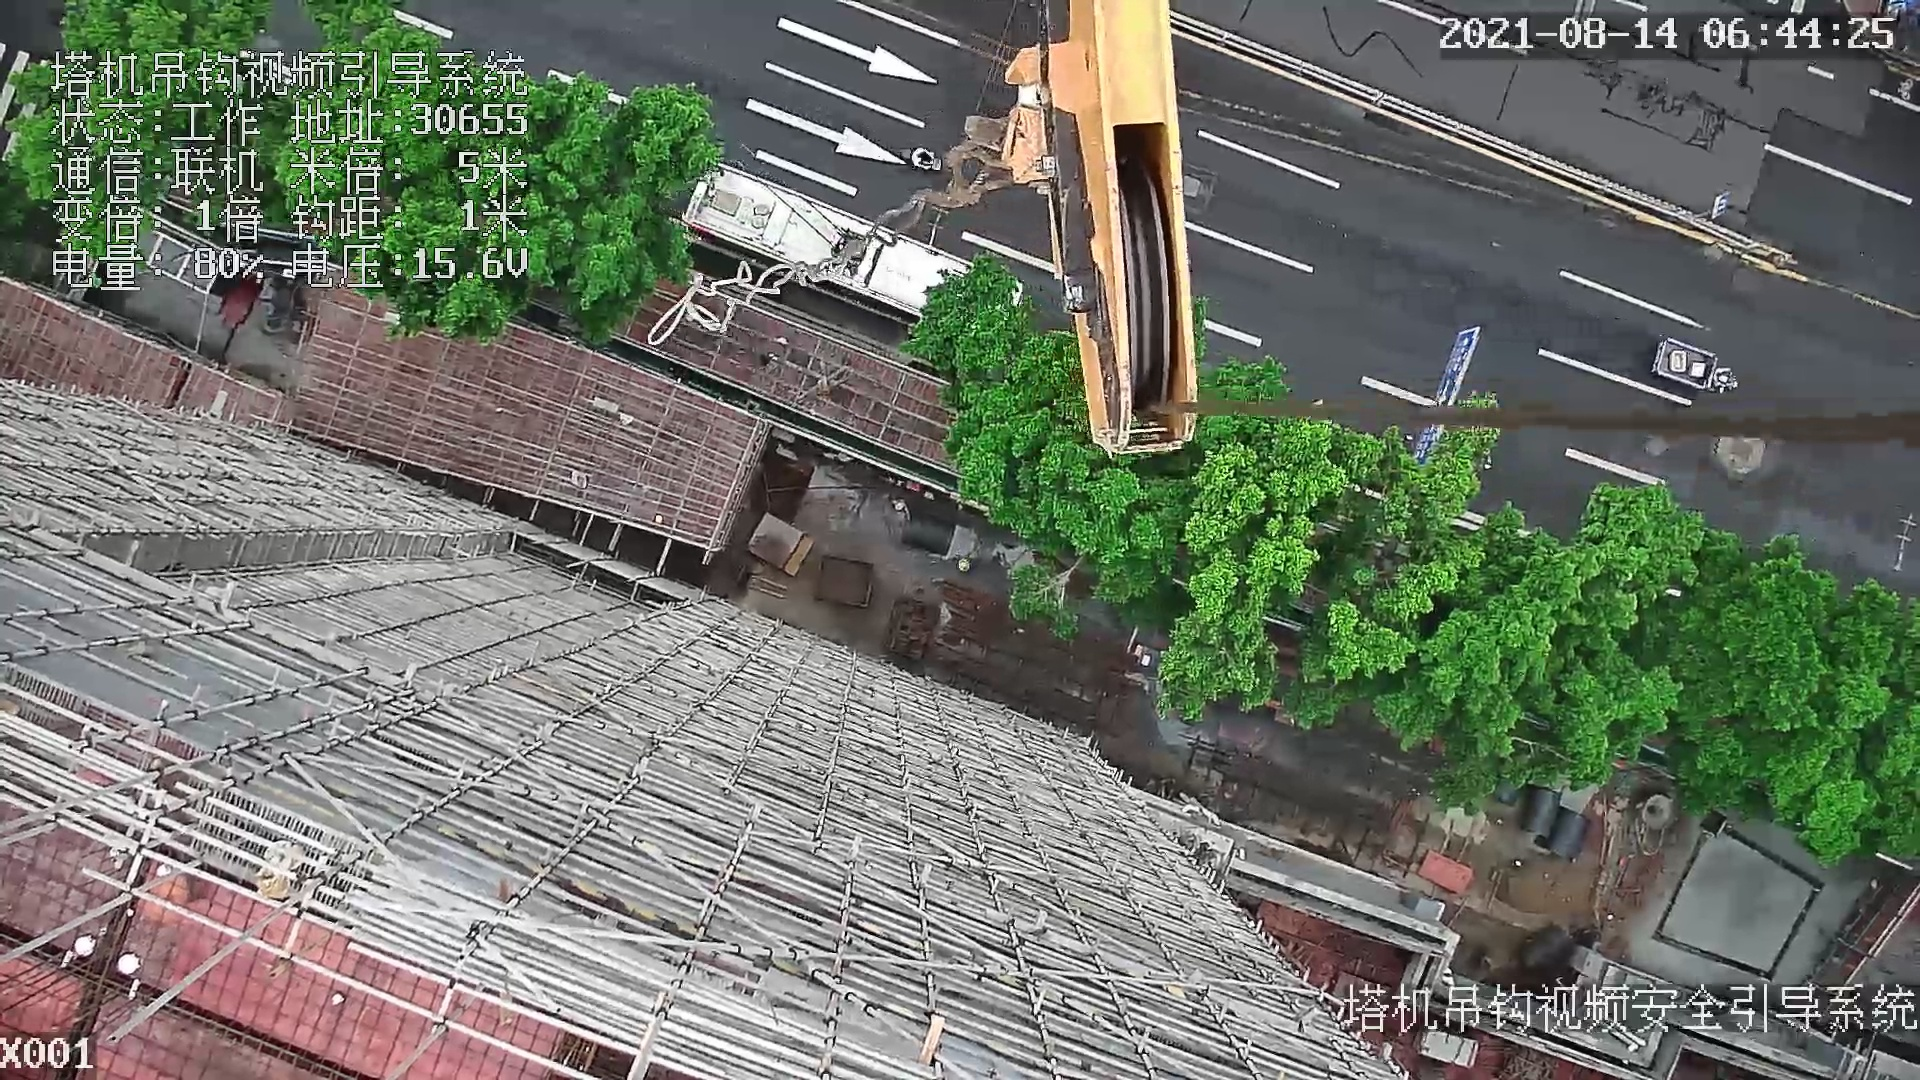hook: (932, 9, 1214, 456)
person: (888, 495, 915, 523)
